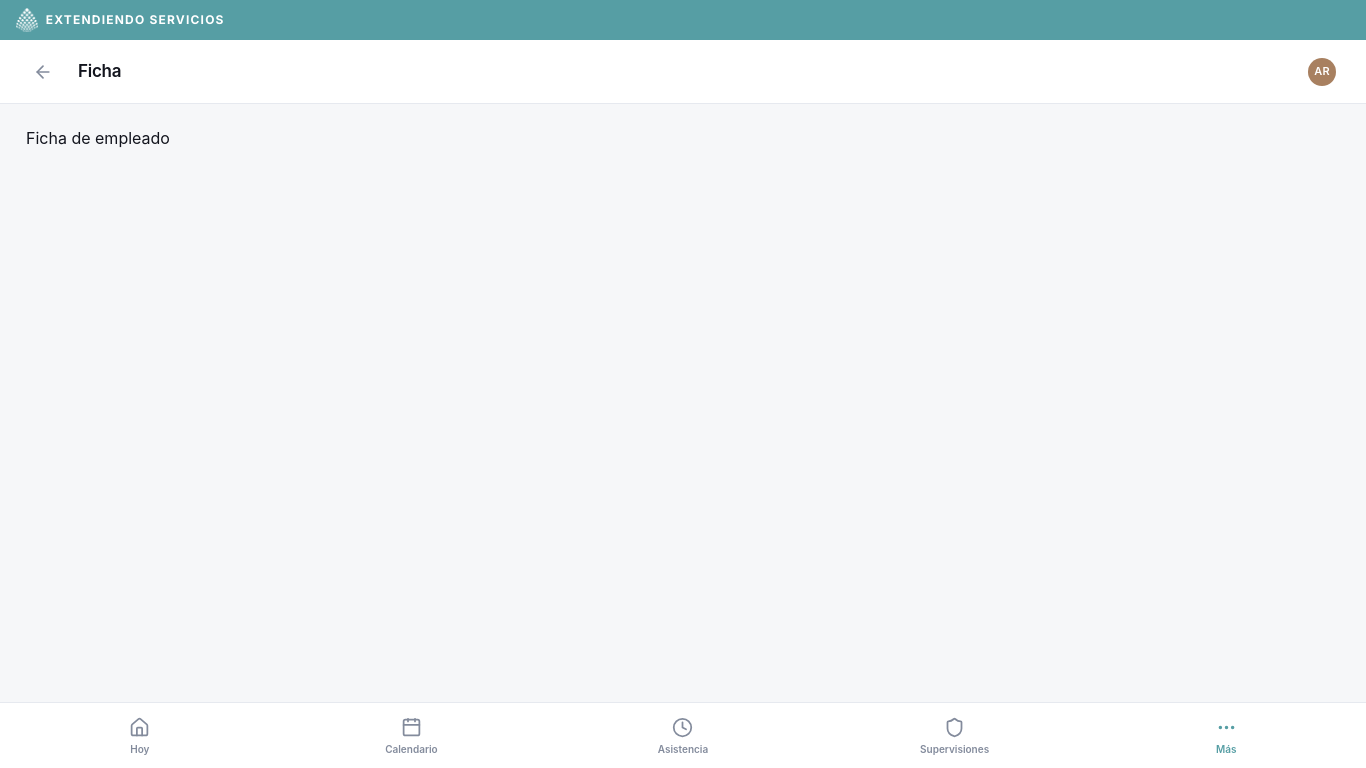
it: AdminShell — flecha atrás (P17.8) › con historial, vuelve a la pantalla anterior
Click the button named "Volver" at (43, 72), box [26,54,60,88]
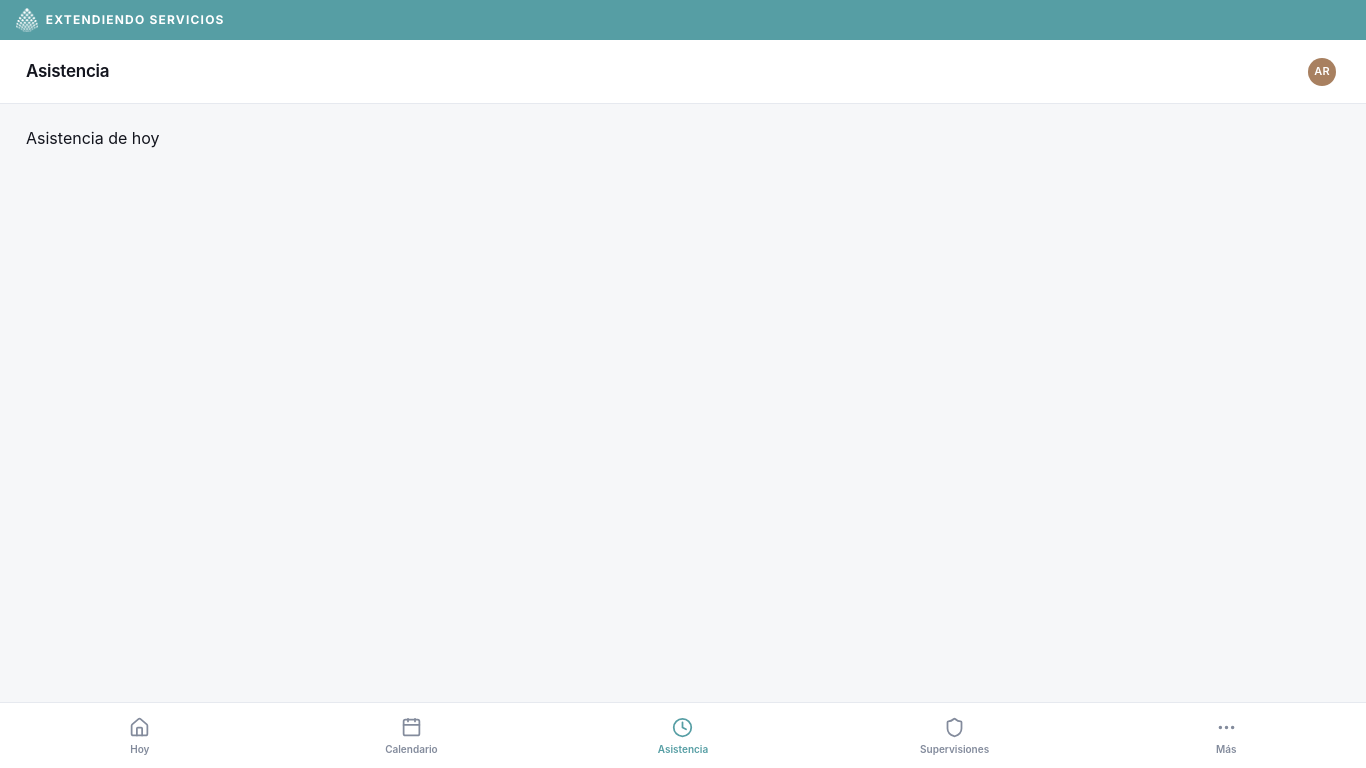
Expected: the text "Asistencia de hoy" is shown, [26,128,160,148]
